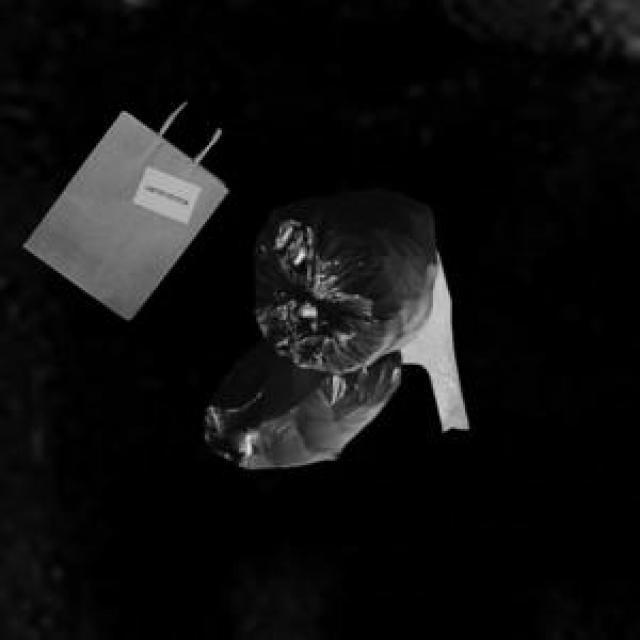miscellaneous trash: (201, 186, 433, 465)
paper: (19, 102, 224, 316)
